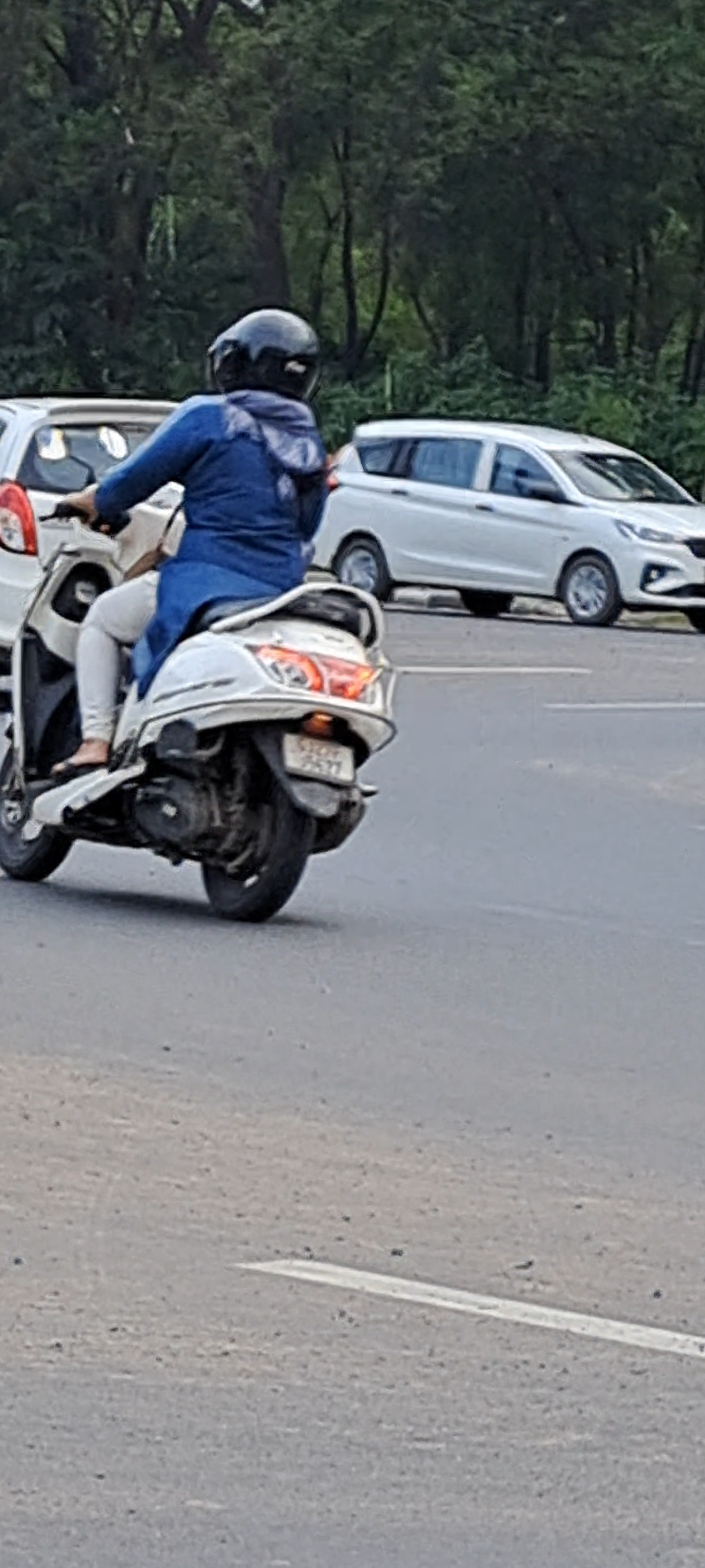BikeWithRider: (0, 286, 411, 936)
Helmet: (191, 299, 335, 415)
